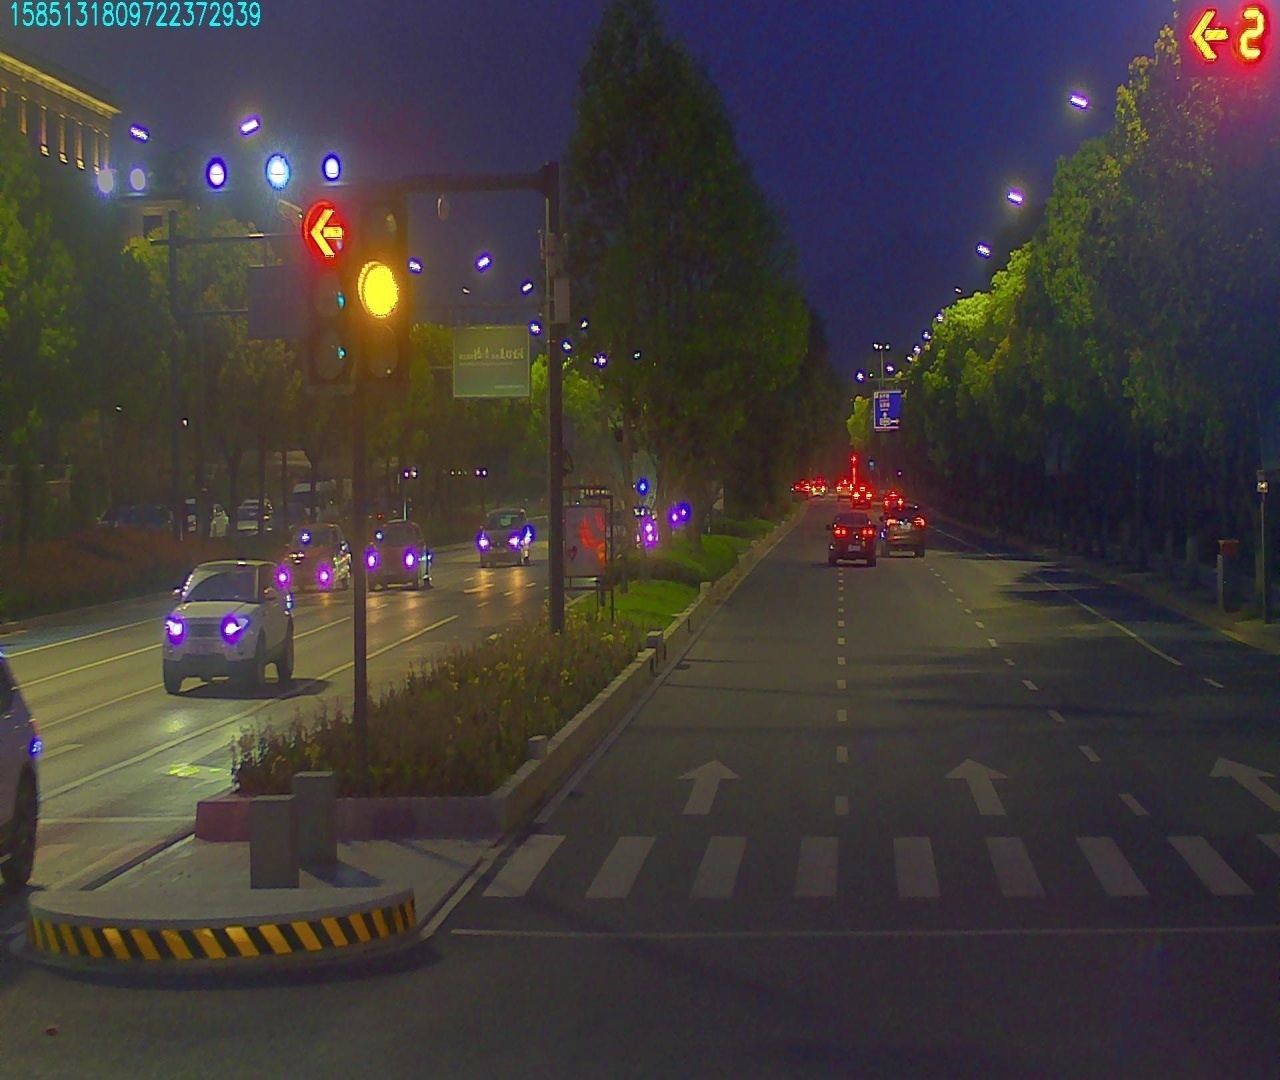red: (304, 207, 351, 367)
yellow: (356, 208, 406, 378)
